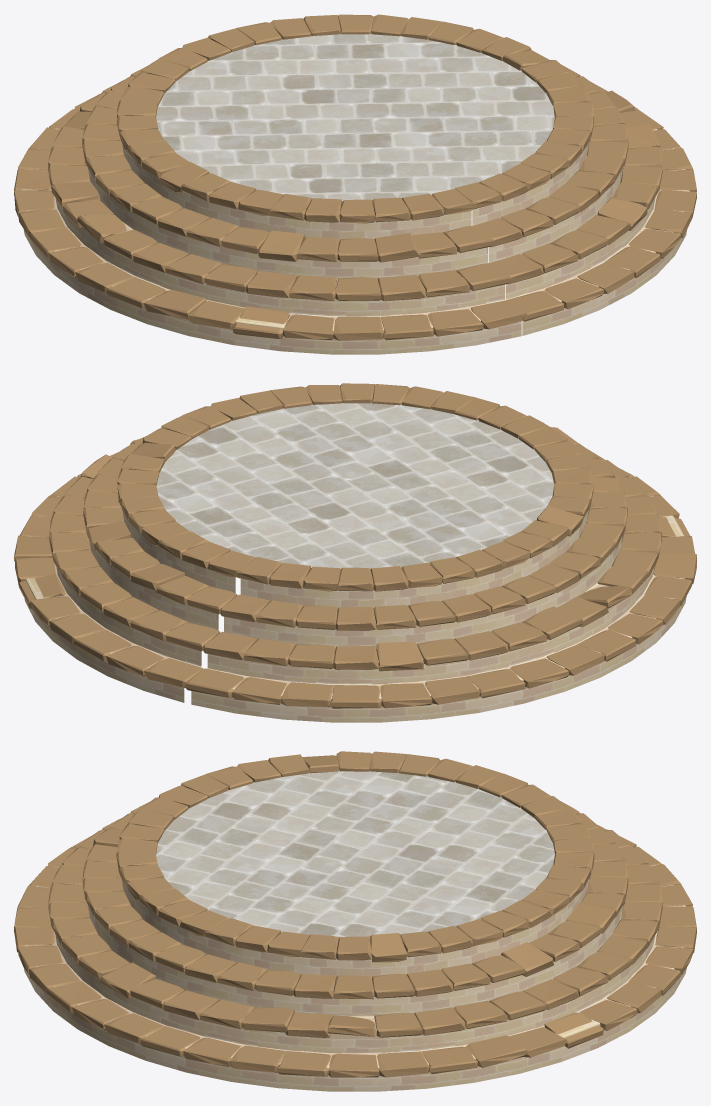
Rendered from SM_platform_round_01.fbx.
The picture shows the model from 3 angles, top to bottom: view 1: azimuth 30°, elevation 25°; view 2: azimuth 150°, elevation 25°; view 3: azimuth 270°, elevation 25°; orthographic projection.
Visible parts, largest first — view 1: Object33197; view 2: Object33197; view 3: Object33197.
Boxes of the visible parts, x1=… form: Object33197: x1=14, y1=14, x2=696, y2=354; Object33197: x1=14, y1=383, x2=696, y2=722; Object33197: x1=14, y1=751, x2=696, y2=1091.
Bounding box in the file's own units: 366 × 59.76 × 366.
